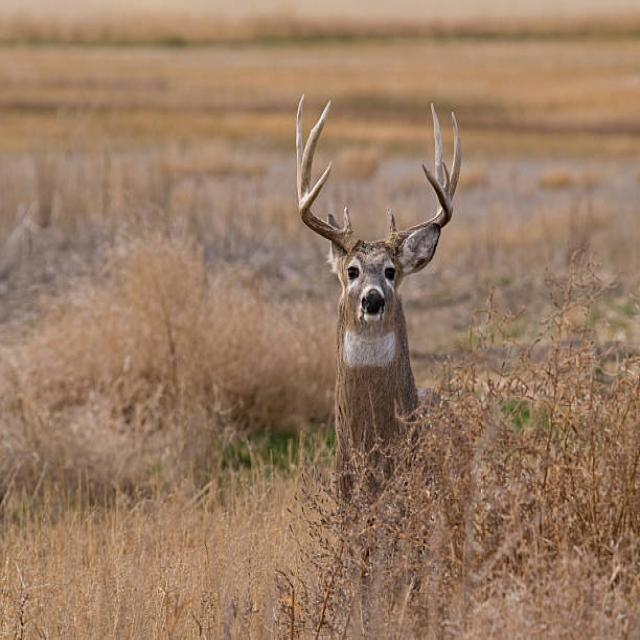E1: (442, 160, 450, 196)
L-F: (384, 161, 453, 254)
L-G1: (386, 208, 396, 238)
R-F: (300, 160, 360, 254)
R-G1: (343, 206, 352, 234)
R-G3: (300, 99, 332, 207)
